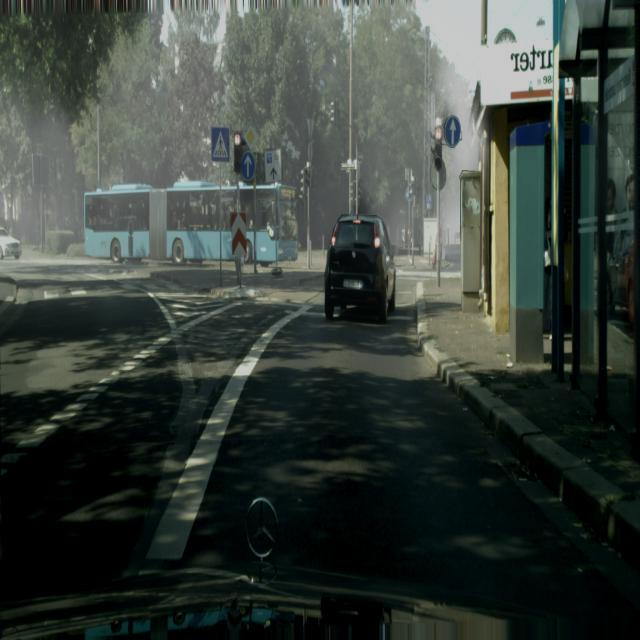motorcycle: (83, 179, 298, 266)
truck: (324, 214, 397, 324), (607, 218, 634, 318), (0, 226, 22, 259)
